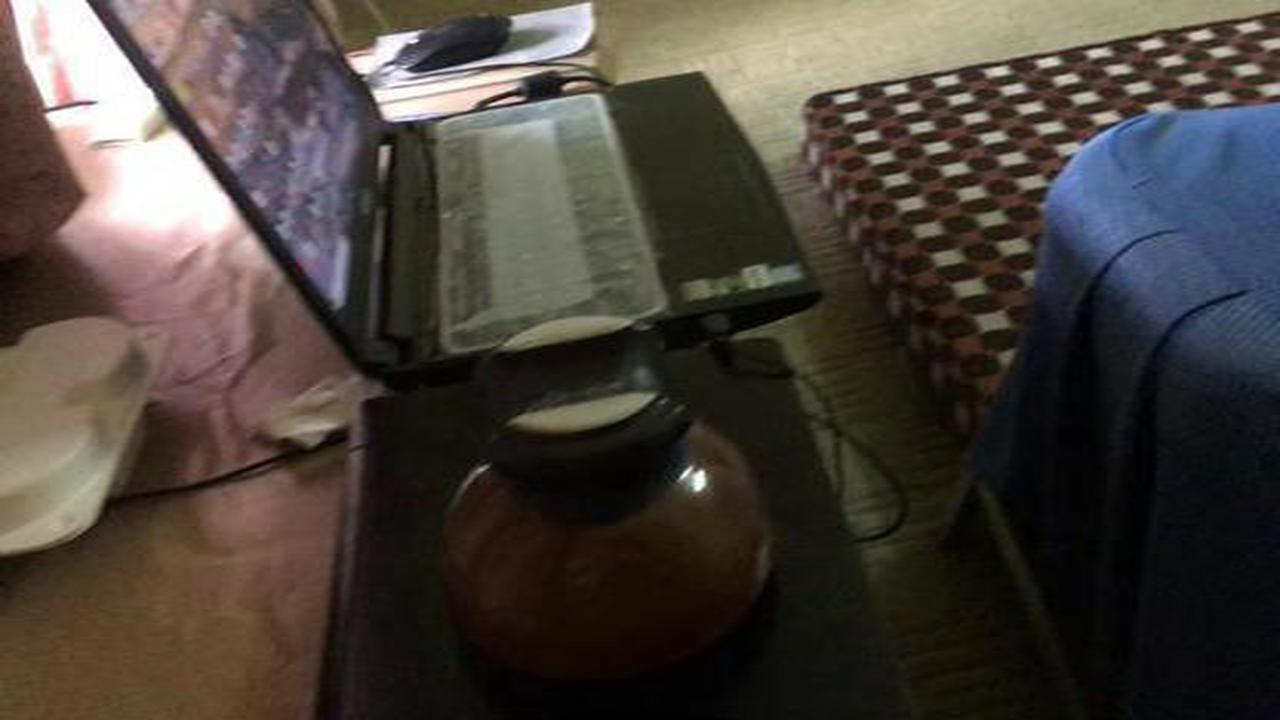insulator_pin: (424, 303, 788, 708)
